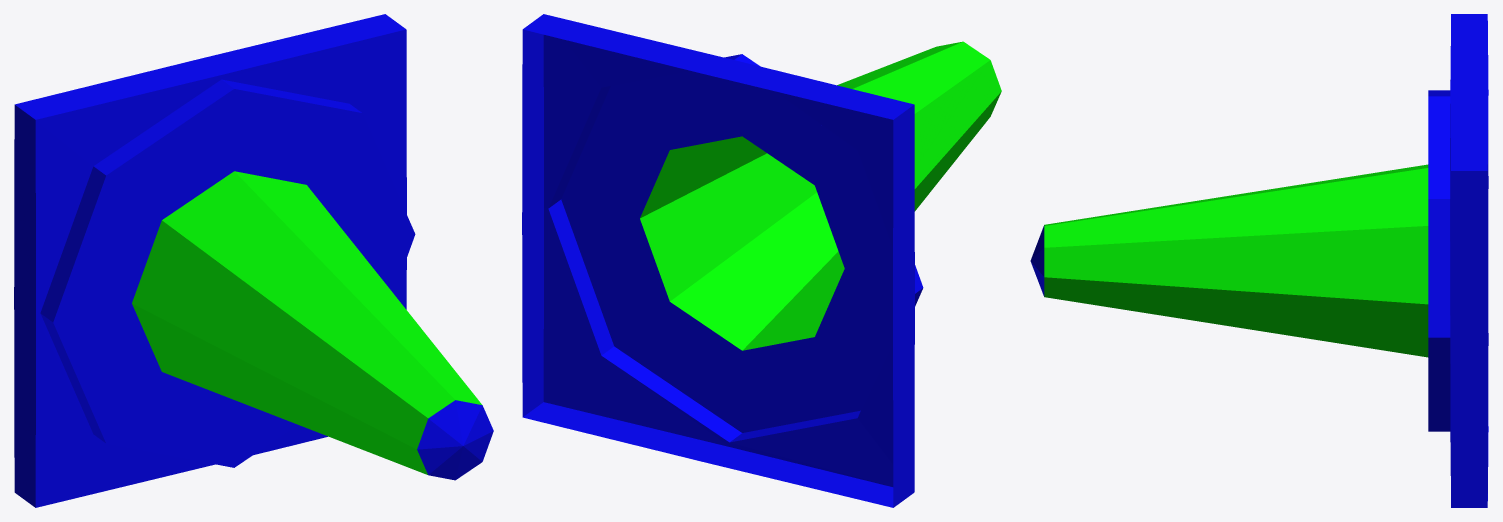
File: barrier_success3.dae
3 renders of one model, left to right at view 1: azimuth 30°, elevation 25°; view 2: azimuth 150°, elevation 25°; view 3: azimuth 270°, elevation 25°, orthographic. The views are drawn at different scales.
Parts seen in each view (by area): view 1: node; view 2: node; view 3: node.
Part boxes in pixels (x1,y1,x2,y2): node: (14, 14, 493, 507); node: (522, 14, 1001, 507); node: (1030, 14, 1488, 507).
Bounding box in the file's own units: 0.2888 × 0.2888 × 0.3559.
Materials: 1 (1 with a texture image).
